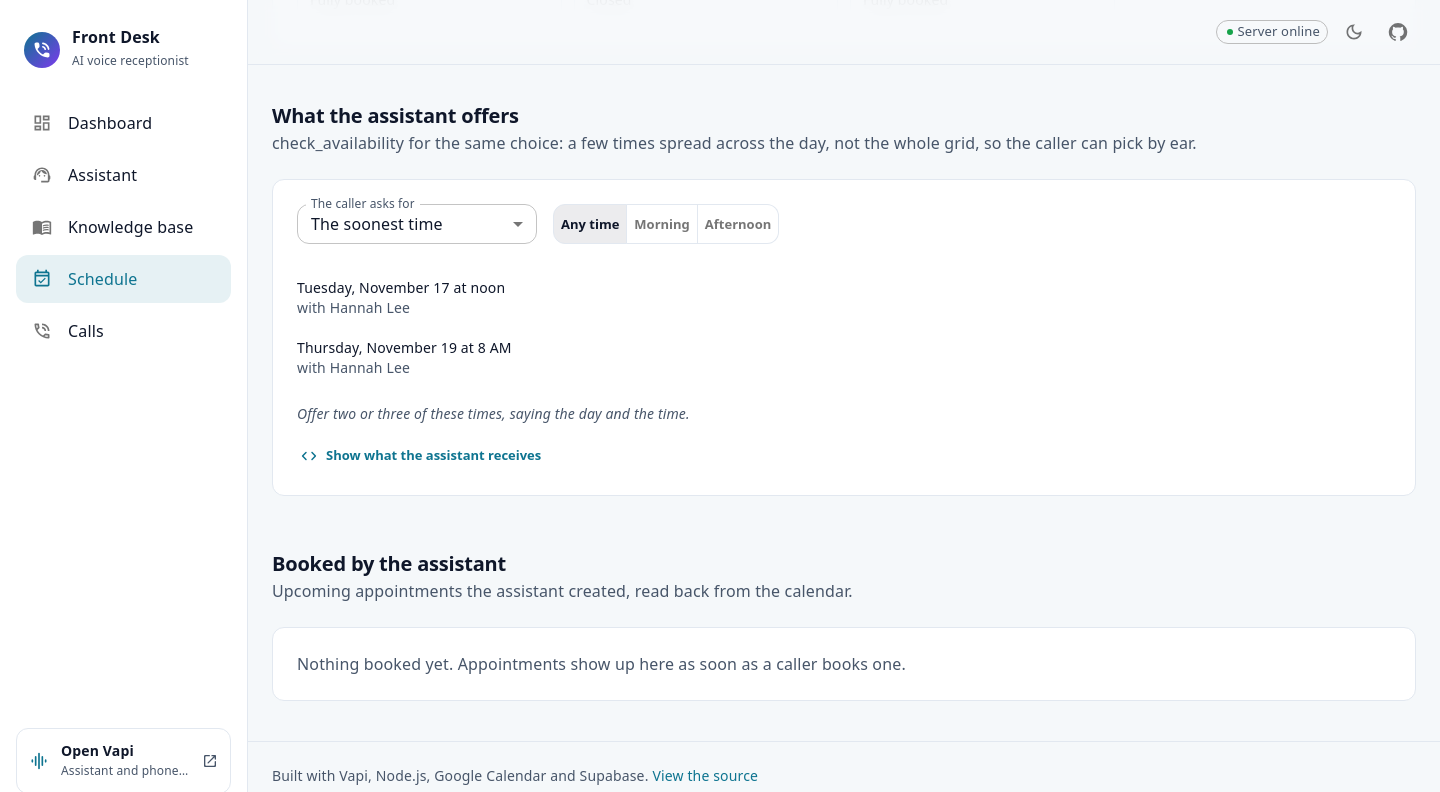
Schedule page › shows the times the assistant would offer
The width and height of the screenshot is (1440, 792).
(page scrolled)
Expected: the text "Tuesday, November 17 at noon" is shown, [297, 278, 505, 297]
Expected: the text "with Hannah Lee" is shown 2 times, [297, 298, 410, 317]; [297, 358, 410, 377]
Click the button "Show what the assistant receives" at [422, 456], box [297, 440, 546, 471]
(page scrolled)
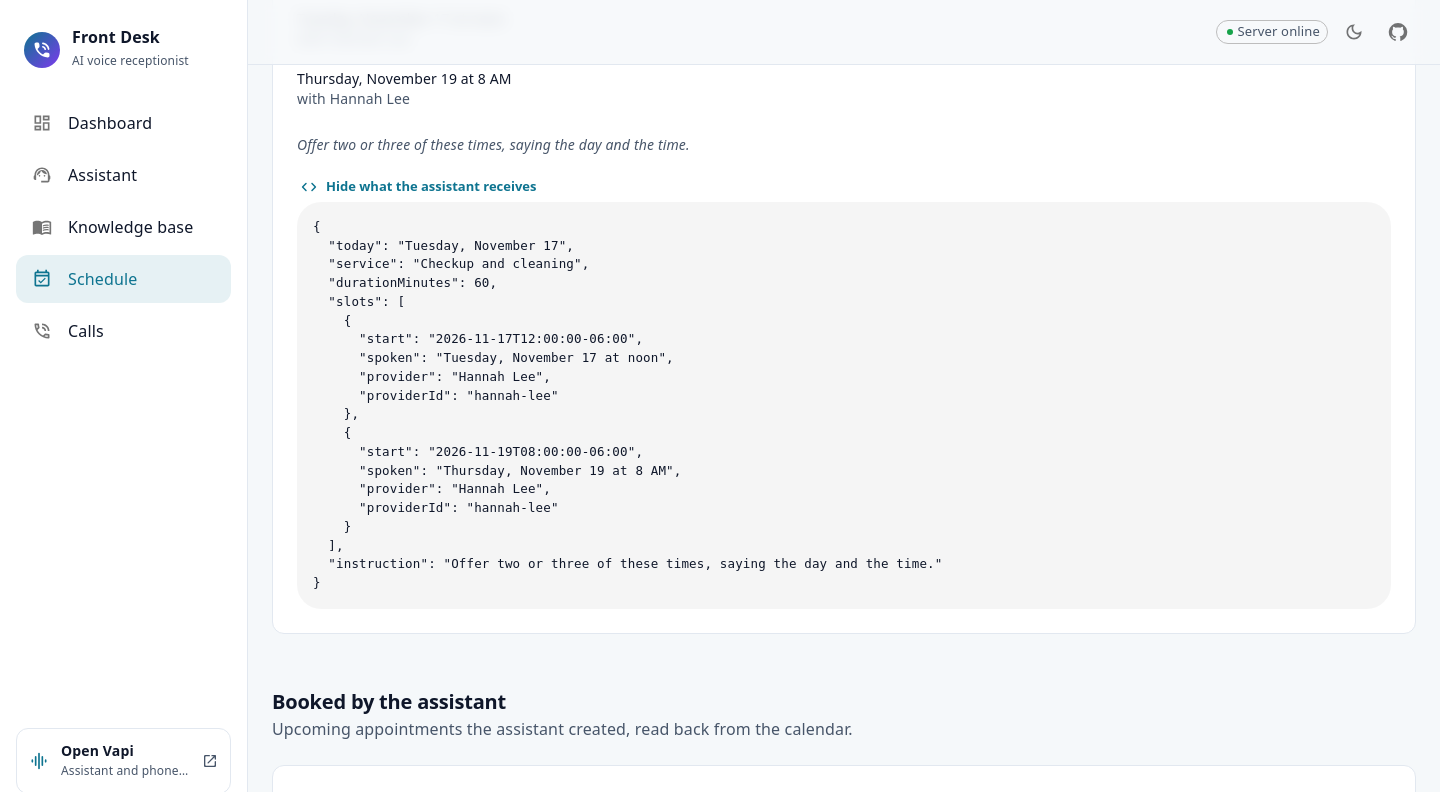
Expected: the text "\"providerId\": \"hannah-lee\"" is shown, [313, 219, 942, 590]
